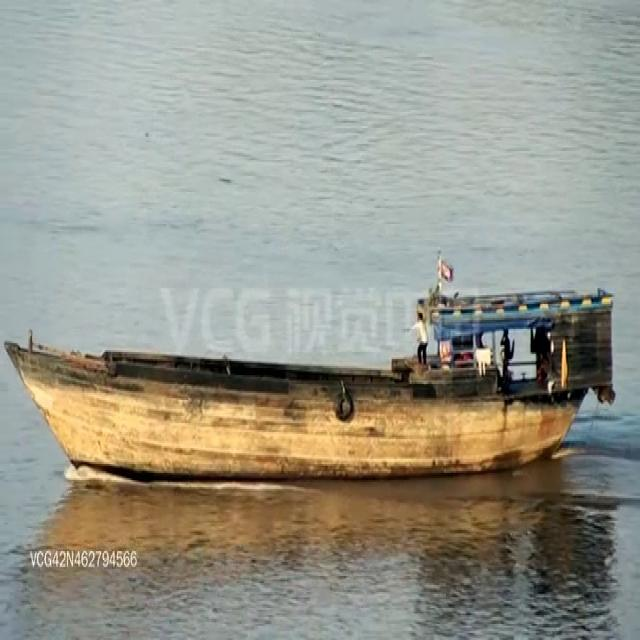fishing boat: (6, 256, 614, 479)
